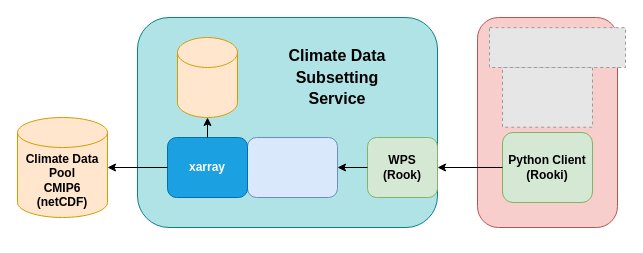
The diagram is 643 pixels wide and 253 high, and some of its shapes have lost their labels. Grey dashed boxes stand in for pictures. Each missing label, with the centre of its shape:
"Climate Data Operators Python Library (Clisops)" belongs at pixel 292 167.
"Outputs (netCDF)" belongs at pixel 207 77.
